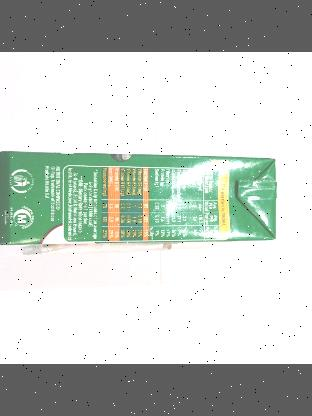Others: (0, 148, 277, 253)
